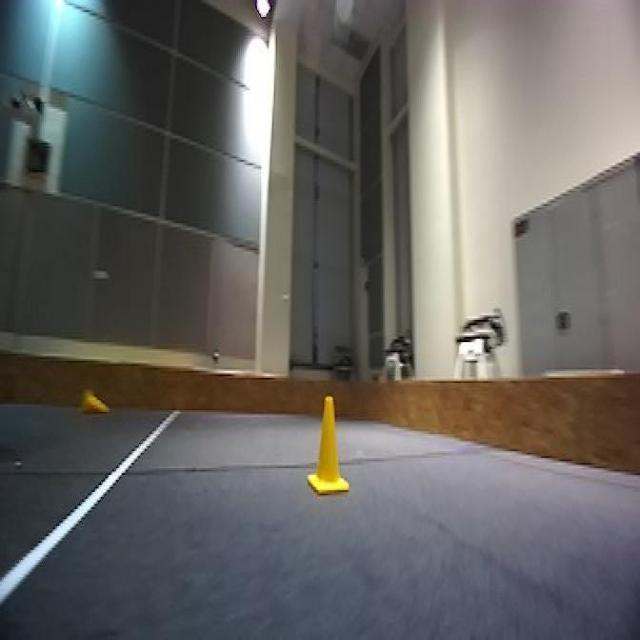frc_cone: (308, 395, 351, 499), (78, 388, 112, 417)
